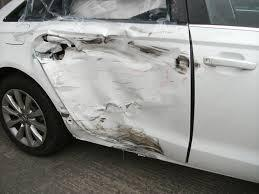doorouter-dent: (35, 24, 187, 154)
